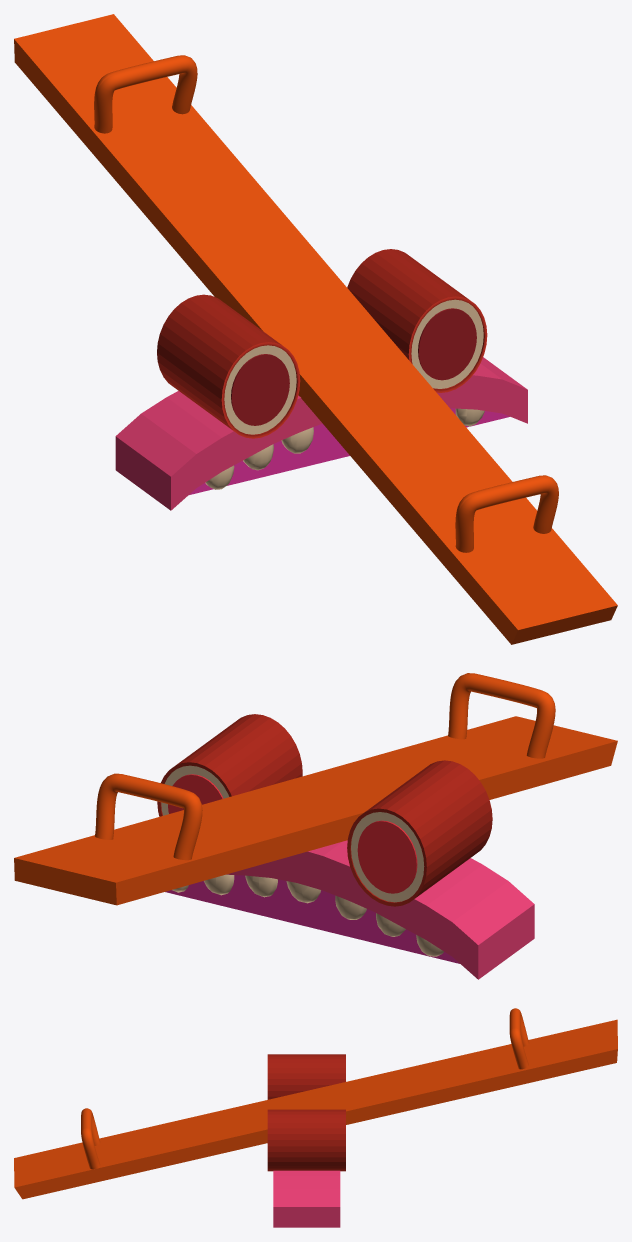
File: seesaw.fbx
3 renders of one model, top to bottom at view 1: azimuth 30°, elevation 25°; view 2: azimuth 150°, elevation 25°; view 3: azimuth 270°, elevation 25°, orthographic. The views are drawn at different scales.
Visible parts, largest first — view 1: 立方体, Cube.001; view 2: Cube.001, 立方体; view 3: 立方体, Cube.001.
Boxes of the visible parts, x1,y1,x2,y2 form: 立方体: (14, 14, 617, 644); Cube.001: (115, 249, 527, 510); Cube.001: (157, 714, 534, 979); 立方体: (14, 673, 617, 905); 立方体: (14, 1008, 617, 1199); Cube.001: (267, 1054, 345, 1227).
Size of the model in its own units: 1694 by 1232 by 4108.
